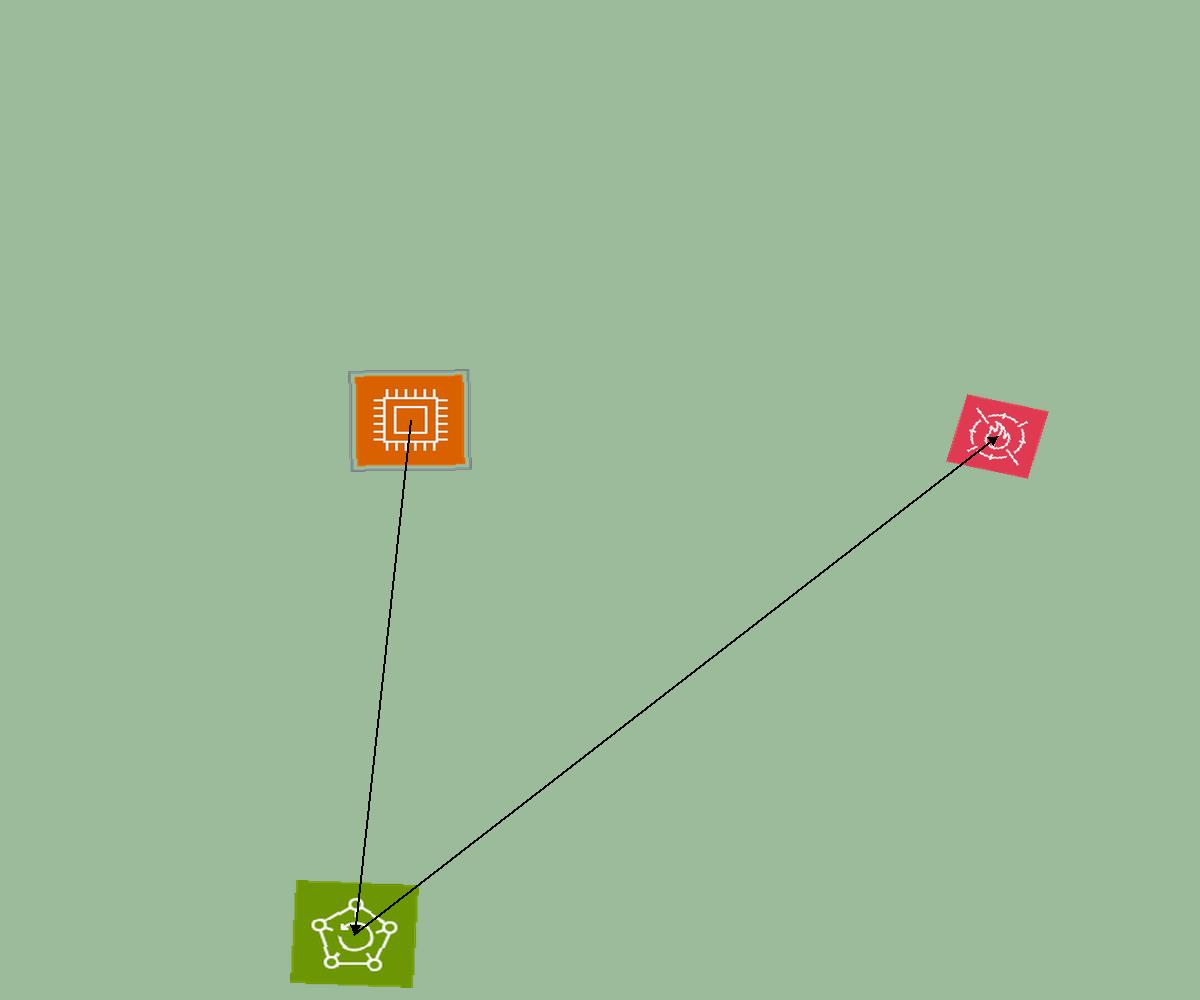AWS-Backup: (290, 880, 419, 988)
AWS-Category_Compute: (348, 369, 472, 472)
AWS-WAF: (946, 394, 1049, 479)
